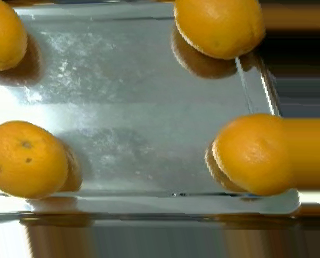Orange: (1, 119, 69, 200), (173, 1, 264, 59)
